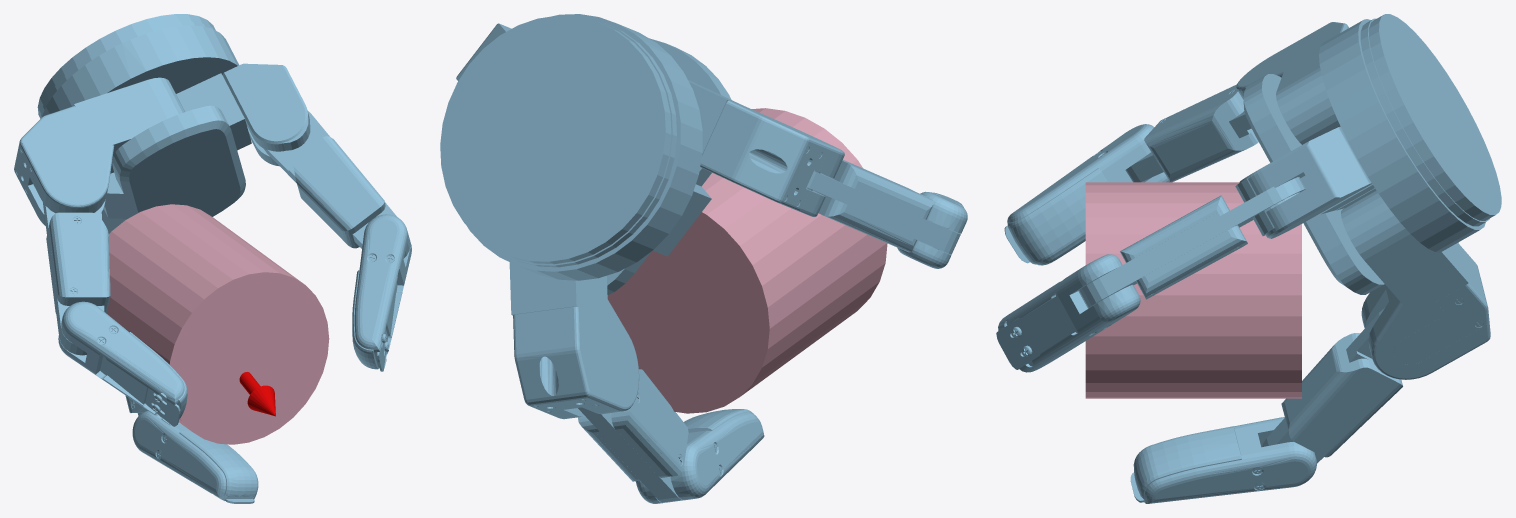
The picture shows the model from 3 angles, left to right: view 1: azimuth 30°, elevation 25°; view 2: azimuth 150°, elevation 25°; view 3: azimuth 270°, elevation 25°; orthographic projection. The views are drawn at different scales.
Visible parts, largest first — view 1: world, cylinder_medium.stl; view 2: world, cylinder_medium.stl; view 3: world, cylinder_medium.stl.
Boxes of the visible parts, x1,y1,x2,y2 form: world: (14, 14, 411, 503); cylinder_medium.stl: (106, 204, 329, 444); world: (440, 14, 967, 503); cylinder_medium.stl: (607, 108, 887, 413); world: (996, 14, 1501, 503); cylinder_medium.stl: (1085, 182, 1301, 398).
Size of the model in its own units: 0.1668 by 0.1947 by 0.1869.
